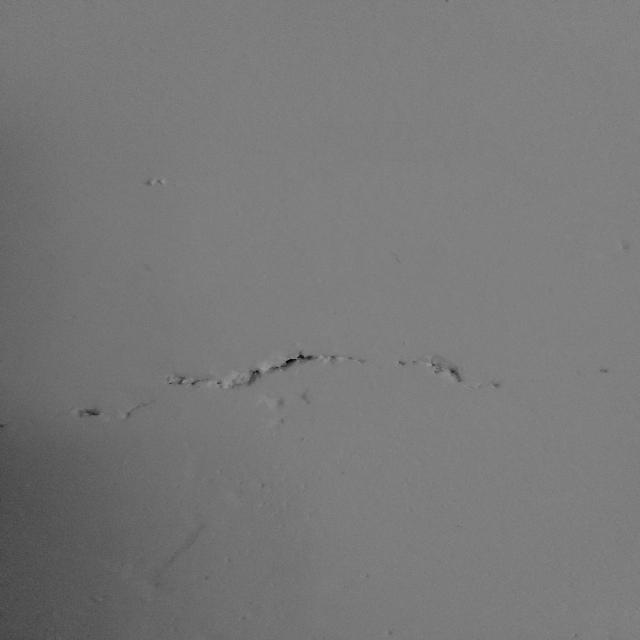rough and patchy surface: (1, 324, 631, 432)
